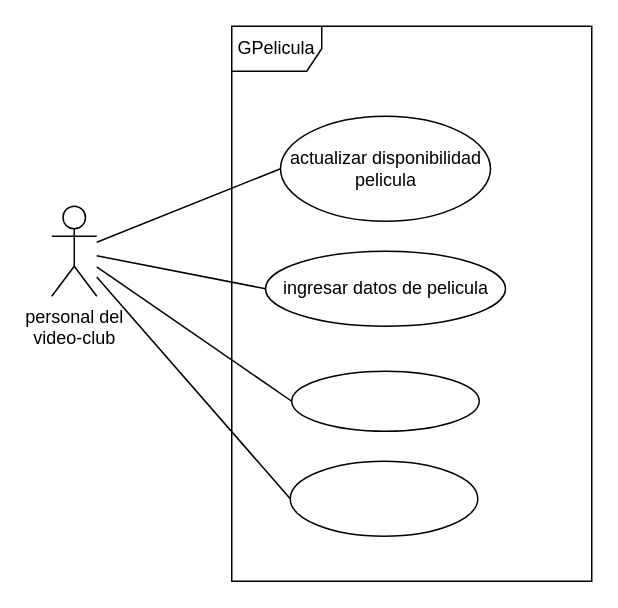
Image size: 618x608. Some labels were removed from this diagram. Here are the shapes that lost their labels. From the top down, the centre of each, then its label:
At (384,400): "actualizar datos pelicula".
At (383,498): "dar de baja pelicula".
